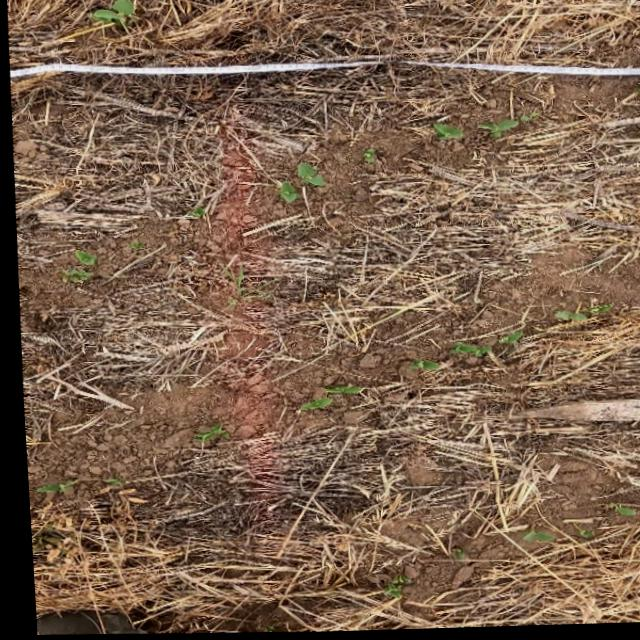soy_plant: (291, 385, 357, 413), (475, 117, 534, 142), (90, 0, 133, 29), (59, 250, 92, 283), (293, 164, 321, 189), (374, 577, 402, 601), (430, 124, 460, 144), (188, 425, 221, 443), (28, 480, 71, 493), (444, 346, 485, 359), (405, 361, 437, 373), (515, 532, 547, 544), (600, 506, 627, 519), (495, 334, 517, 347), (277, 184, 292, 203), (550, 314, 580, 322), (360, 151, 373, 165)
